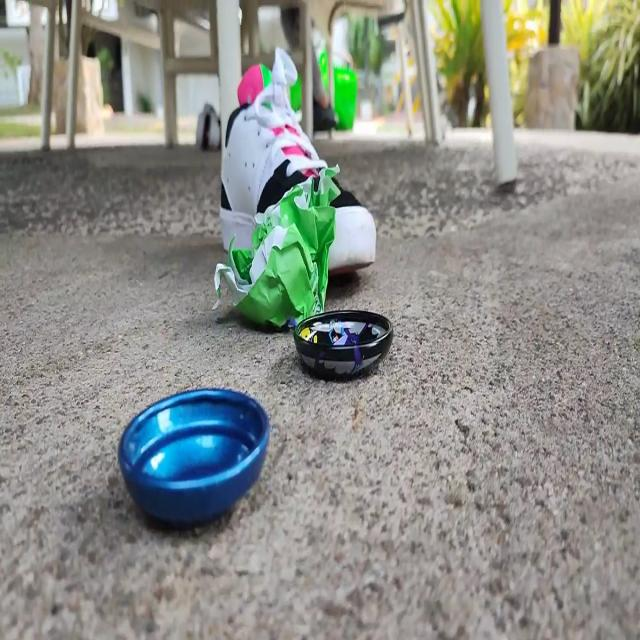paper: (215, 160, 340, 324)
